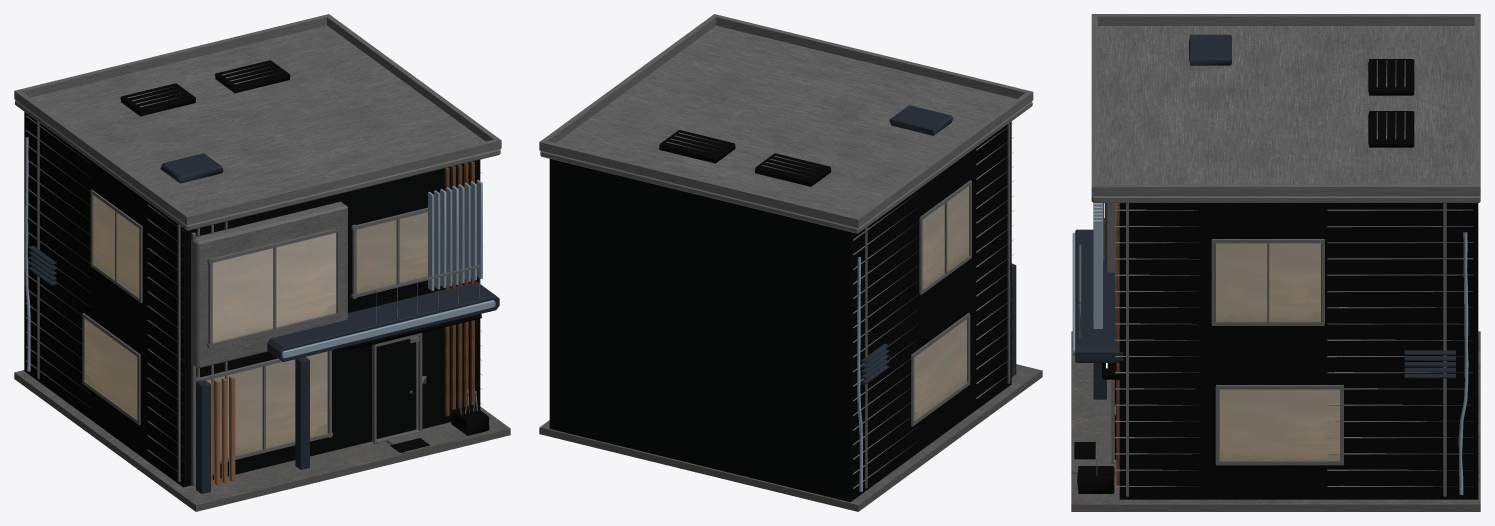
The model's file is house-a.glb.
3 renders of one model, left to right at view 1: azimuth 30°, elevation 25°; view 2: azimuth 150°, elevation 25°; view 3: azimuth 270°, elevation 25°, orthographic. The views are drawn at different scales.
Visible parts, largest first — view 1: Steel, Structure, Window, Cantilever_And_Terrace, Concrete, Wood; view 2: Structure, Steel, Window, Concrete, Cantilever_And_Terrace; view 3: Structure, Steel, Window, Cantilever_And_Terrace, Concrete, Wood.
Boxes of the visible parts, left/top/right/bottom form: Steel: left=14, top=14, right=501, bottom=486; Structure: left=24, top=60, right=489, bottom=487; Window: left=85, top=195, right=427, bottom=458; Cantilever_And_Terrace: left=25, top=137, right=499, bottom=493; Concrete: left=14, top=370, right=510, bottom=511; Wood: left=445, top=161, right=474, bottom=416; Structure: left=549, top=121, right=1011, bottom=502; Steel: left=539, top=14, right=1033, bottom=488; Window: left=914, top=186, right=968, bottom=420; Concrete: left=539, top=364, right=1042, bottom=511; Cantilever_And_Terrace: left=857, top=105, right=1016, bottom=491; Structure: left=1074, top=59, right=1478, bottom=499; Steel: left=1079, top=14, right=1480, bottom=496; Window: left=1215, top=243, right=1339, bottom=460; Cantilever_And_Terrace: left=1072, top=34, right=1468, bottom=494; Concrete: left=1071, top=331, right=1480, bottom=511; Wood: left=1116, top=203, right=1119, bottom=485.
Bounding box in the file's own units: 8 × 7 × 8.
10 materials, 5 textured.
